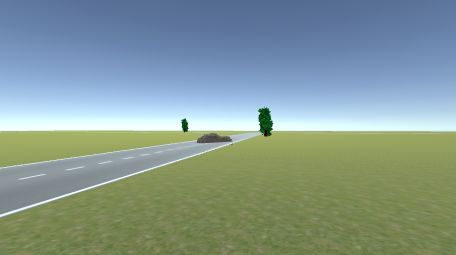rock: (197, 131, 233, 143)
tree: (259, 107, 275, 138), (181, 118, 189, 134)
